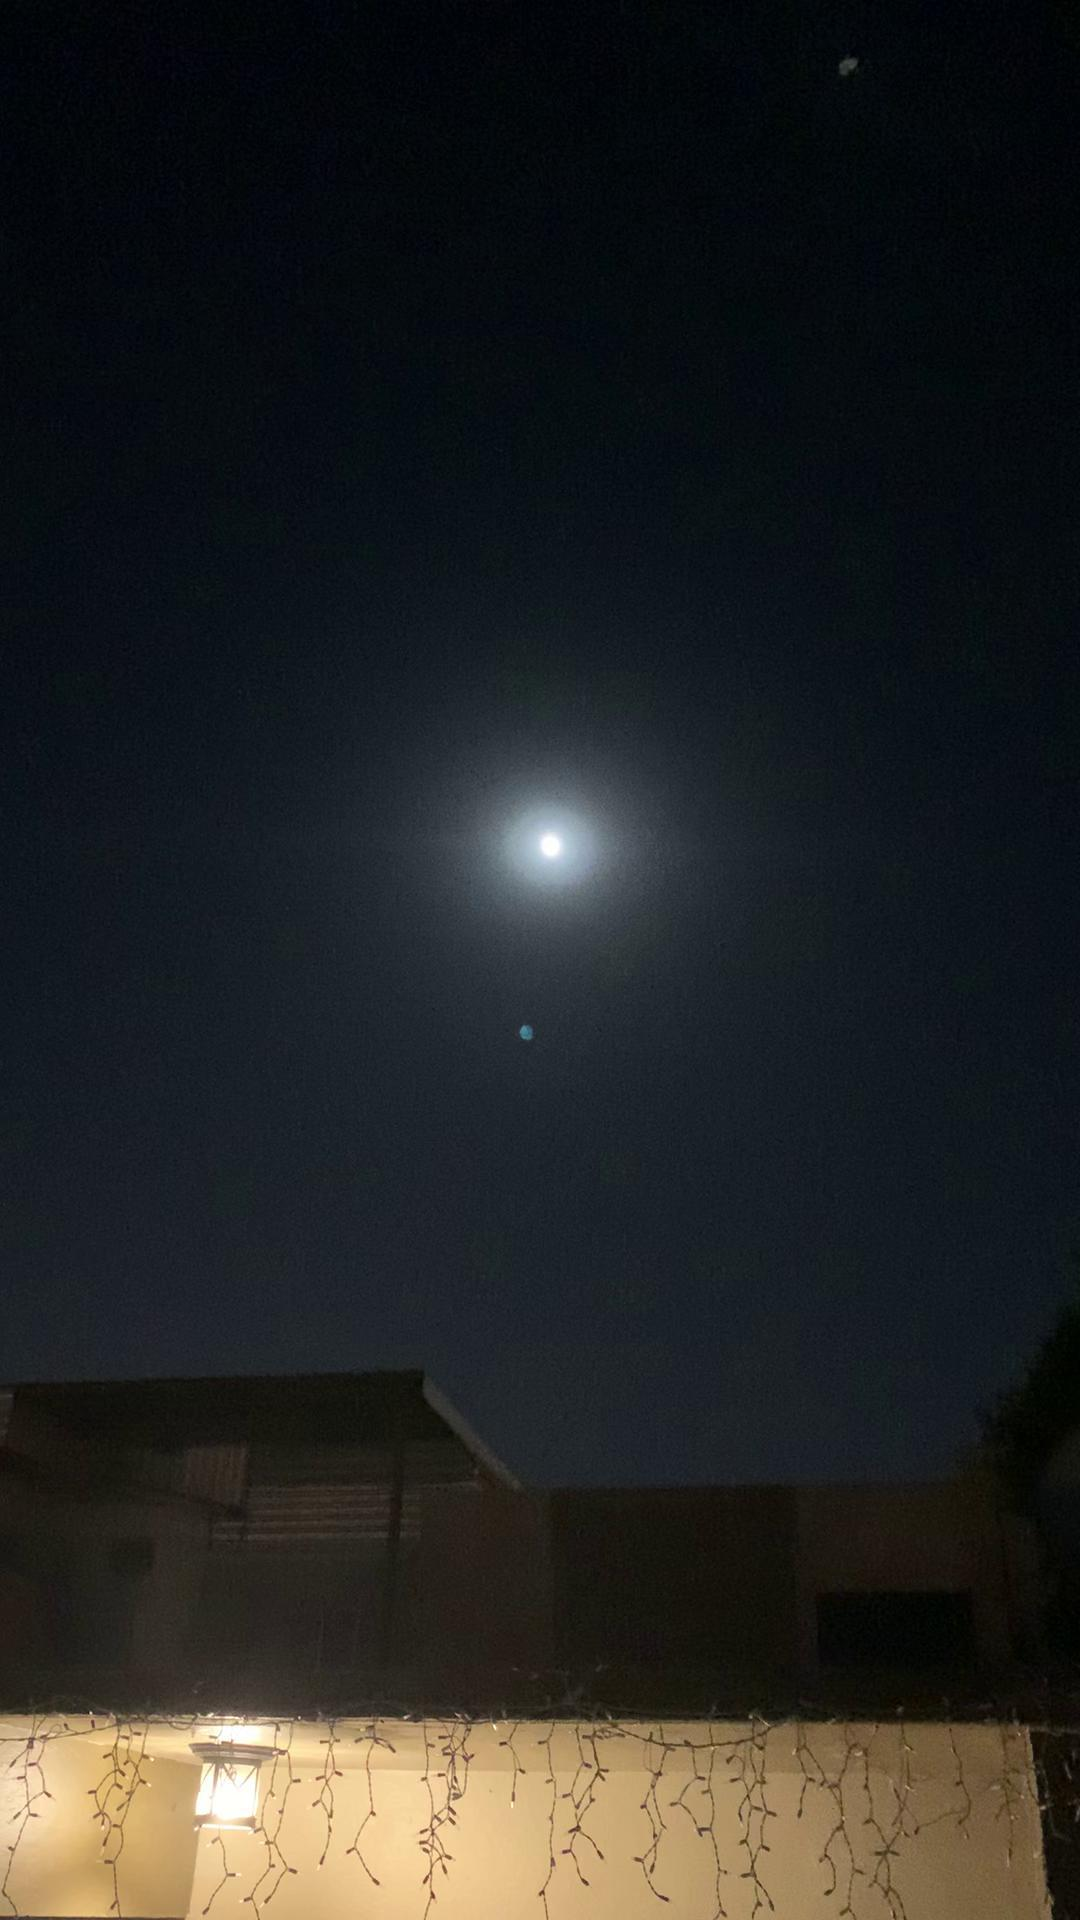moon: (513, 794, 600, 890)
